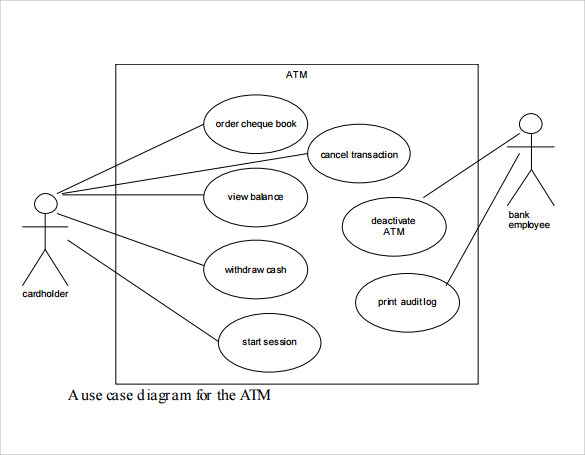actor: (20, 192, 70, 286), (508, 111, 554, 207)
association: (67, 237, 219, 342), (57, 123, 204, 195), (447, 150, 521, 286), (65, 151, 309, 192), (56, 211, 206, 267), (423, 130, 522, 198), (62, 191, 205, 198)
text: (65, 386, 274, 406), (369, 213, 417, 238), (507, 210, 554, 233), (214, 118, 299, 130), (320, 149, 399, 161), (373, 296, 439, 309), (223, 263, 290, 275), (226, 191, 286, 204), (241, 335, 299, 348), (21, 288, 70, 300), (284, 67, 311, 81)
use_case: (340, 195, 448, 258), (202, 93, 309, 156), (203, 167, 311, 229), (217, 311, 323, 374), (306, 123, 412, 186), (354, 271, 461, 333), (203, 239, 310, 300)
